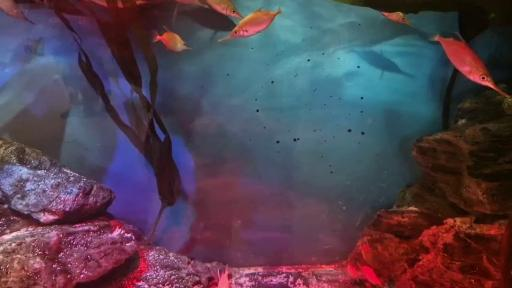Fish: (431, 34, 510, 98), (219, 8, 281, 41), (353, 49, 413, 78), (179, 8, 236, 31), (172, 0, 209, 26), (153, 27, 191, 52), (0, 0, 34, 23), (206, 0, 243, 18), (361, 266, 382, 285), (381, 12, 410, 25), (361, 244, 376, 267), (218, 266, 231, 287), (174, 0, 208, 8), (347, 264, 359, 278), (135, 0, 165, 5)
